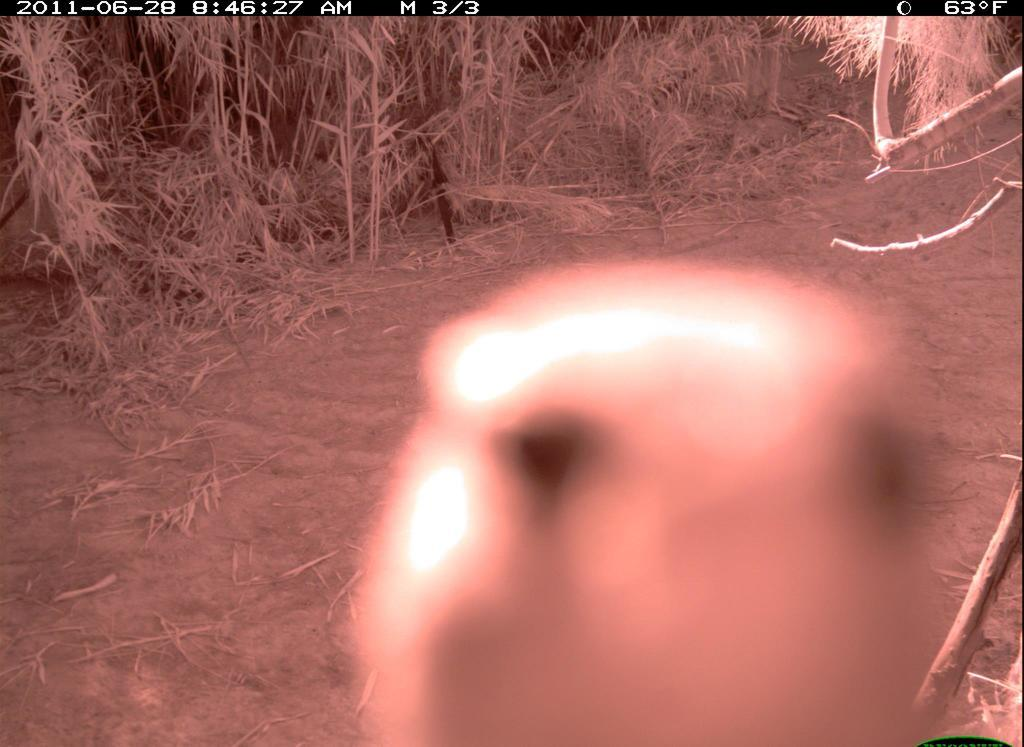bird: (353, 248, 935, 706)
